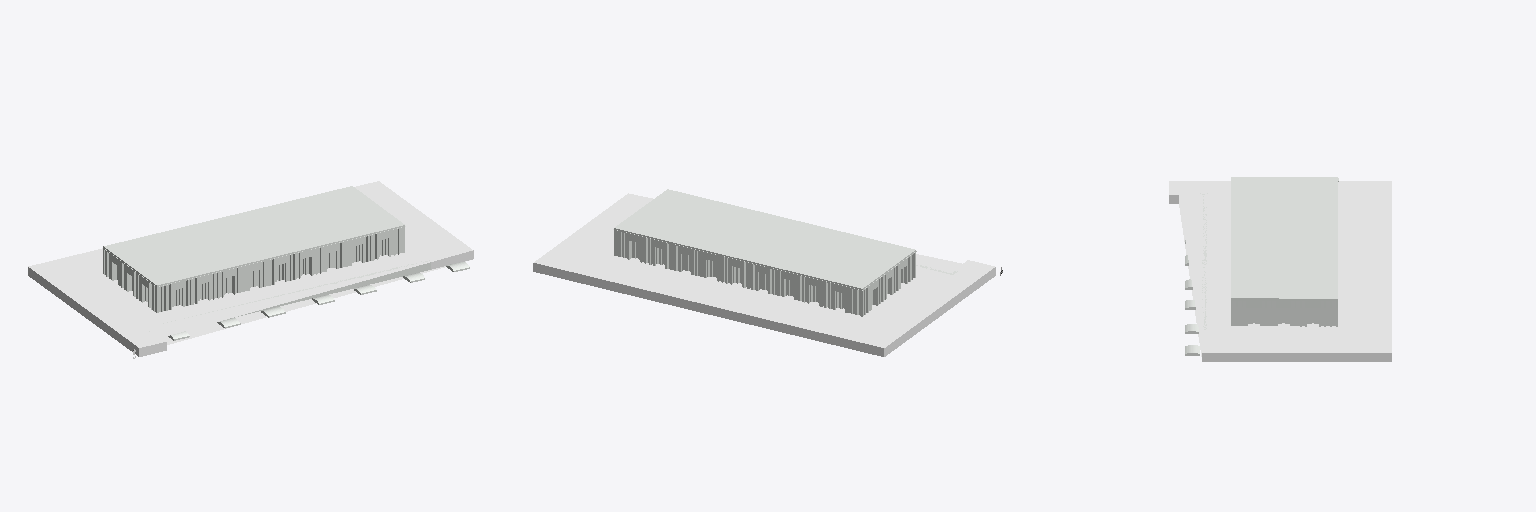
3 renders of one model, left to right at view 1: azimuth 30°, elevation 25°; view 2: azimuth 150°, elevation 25°; view 3: azimuth 270°, elevation 25°, orthographic.
Visible parts, largest first — view 1: Mesh1 Model, Mesh2 Model; view 2: Mesh1 Model, Mesh2 Model; view 3: Mesh2 Model, Mesh1 Model.
Boxes of the visible parts, box(x1,y1,x2,y2) form: Mesh1 Model: box(103, 186, 405, 312); Mesh2 Model: box(28, 181, 473, 356); Mesh1 Model: box(613, 189, 916, 316); Mesh2 Model: box(533, 193, 995, 356); Mesh2 Model: box(1169, 181, 1391, 361); Mesh1 Model: box(1231, 177, 1338, 326).
Bounding box in the file's own units: 61.8 × 6.12 × 33.45.
6 materials, 2 textured.